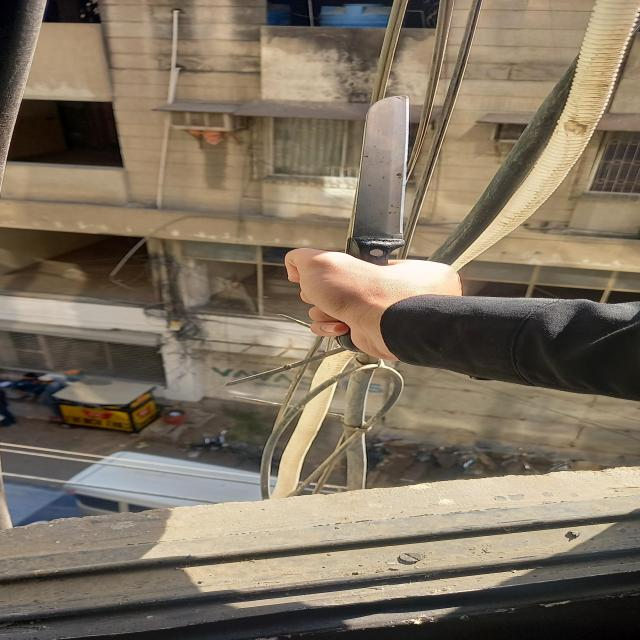Knife: (342, 95, 409, 353)
Person: (290, 247, 640, 402)
